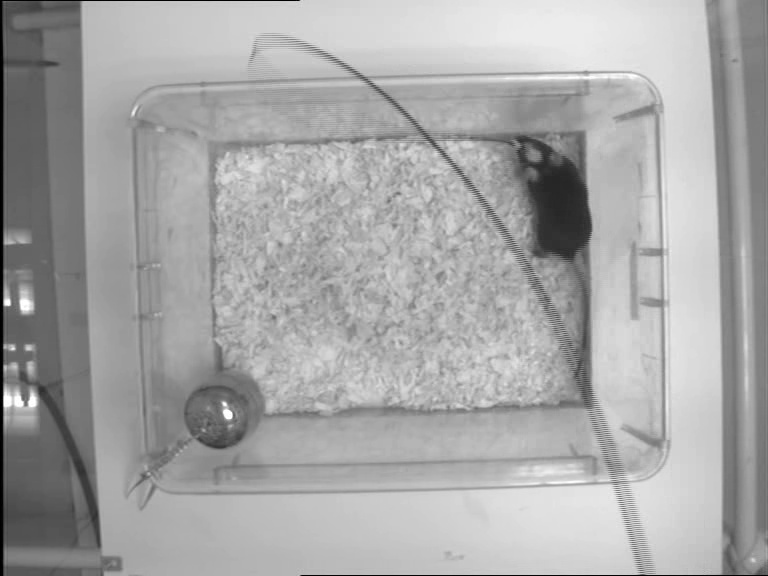mice: (509, 136, 588, 379)
